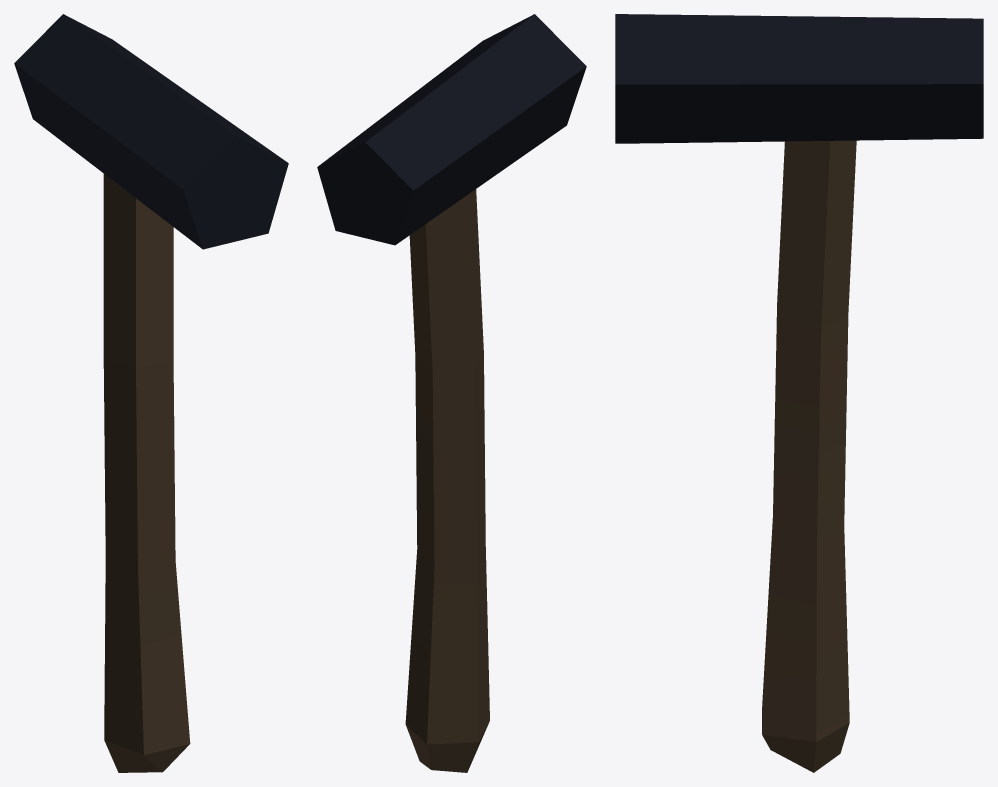
File: HammerA.fbx
The picture shows the model from 3 angles, left to right: view 1: azimuth 30°, elevation 25°; view 2: azimuth 150°, elevation 25°; view 3: azimuth 270°, elevation 25°; orthographic projection. The views are drawn at different scales.
Visible parts, largest first — view 1: HammerA; view 2: HammerA; view 3: HammerA.
Part boxes in pixels (x1=…): HammerA: x1=14, y1=14, x2=288, y2=772; HammerA: x1=317, y1=14, x2=586, y2=772; HammerA: x1=615, y1=14, x2=983, y2=772.
Size of the model in its own units: 9.25 by 58.22 by 26.04.
